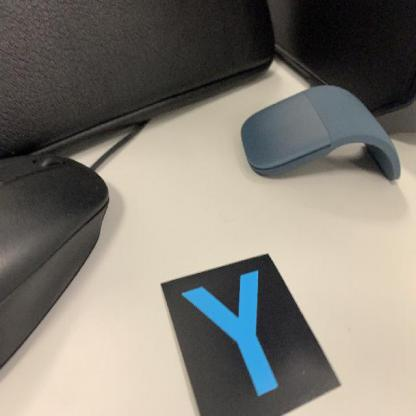y: (160, 252, 344, 416)
